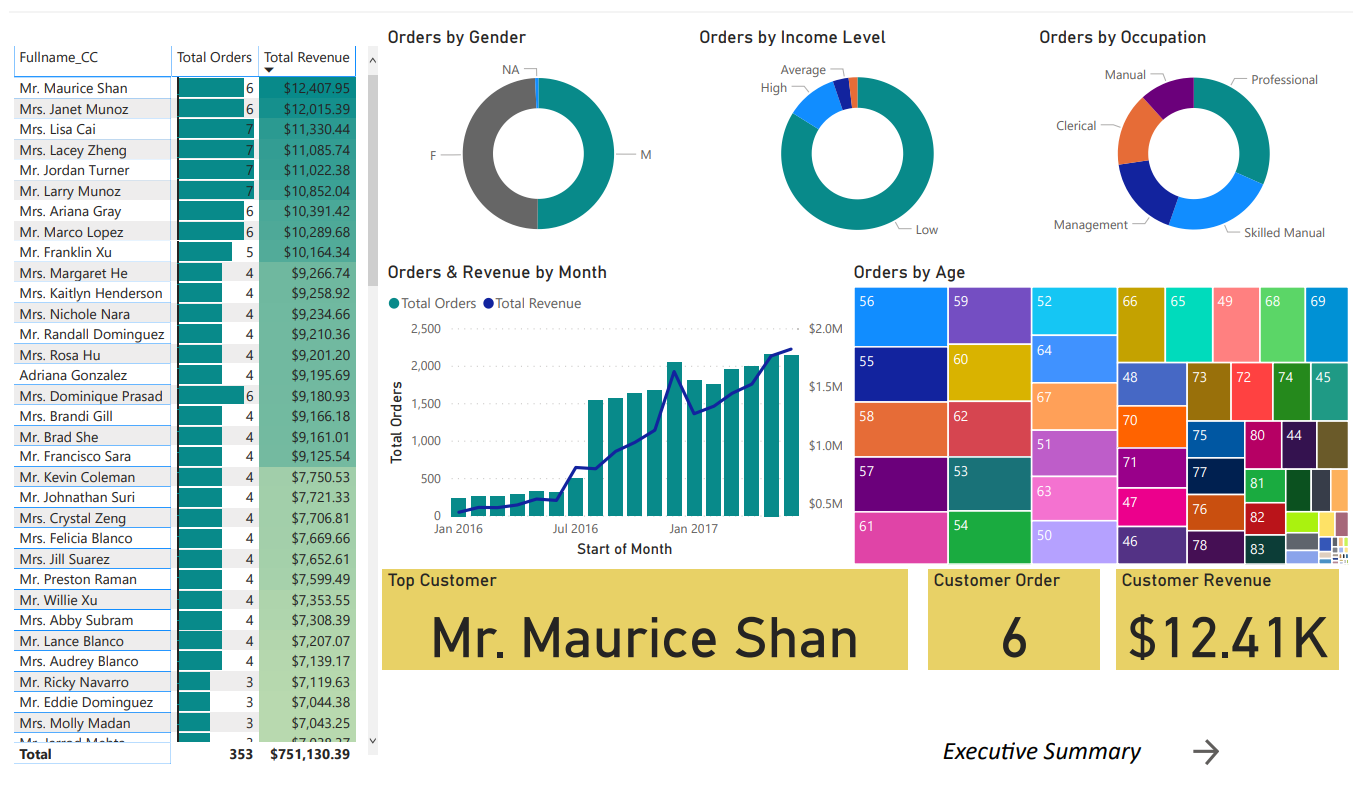

This screenshot's page, from the dashboard's own definition file:
{"tool":"powerbi","page":{"name":"Customer detail","canvas":[1280,720],"ordinal":2},"visuals":[{"type":"pivotTable","fields":{"Values":["AW_Sales.Total Orders","AW_Sales.Total Revenue"],"Rows":["AW_Customer_Lookup.Fullname_CC"]},"box":[0,14.7,355.7,693],"z":0},{"type":"donutChart","title":"Orders by Gender","fields":{"Y":["AW_Sales.Total Orders"],"Category":["AW_Customer_Lookup.Gender"]},"box":[355.7,0,296.8,224.5],"z":1000},{"type":"donutChart","title":"Orders by Income Level","fields":{"Y":["AW_Sales.Total Orders"],"Category":["AW_Customer_Lookup.IncomeLevel"]},"box":[652.8,0,311.1,224.2],"z":2000},{"type":"donutChart","title":"Orders by Occupation","fields":{"Y":["AW_Sales.Total Orders"],"Category":["AW_Customer_Lookup.Occupation"]},"box":[976.4,0,304,224.2],"z":3000},{"type":"lineStackedColumnComboChart","title":"Orders & Revenue by Month","fields":{"Category":["AW_Calendar_Lookup.Start of Month"],"Y":["AW_Sales.Total Orders"],"Y2":["AW_Sales.Total Revenue"]},"box":[356,224.2,443.8,286.9],"z":4000},{"type":"treemap","title":"Orders by Age","fields":{"Values":["AW_Sales.Total Orders"],"Group":["AW_Customer_Lookup.Current Age"]},"box":[799.7,224.5,480.8,293.2],"z":5000},{"type":"card","title":"Top Customer","fields":{"Values":["AW_Customer_Lookup.Fullname_CC"]},"box":[355.7,517.8,499.9,96.1],"z":6000},{"type":"card","title":"Customer Order","fields":{"Values":["AW_Sales.Total Orders"]},"box":[876.2,517.8,163.4,96.1],"z":7000},{"type":"card","title":"Customer Revenue","fields":{"Values":["AW_Sales.Total Revenue"]},"box":[1054.8,517.8,211.5,96.1],"z":8000},{"type":"textbox","box":[884.5,670.2,310.4,43.9],"z":9000},{"type":"actionButton","box":[1122.1,674.3,83.8,34.3],"z":10000}]}

Visuals, with their boxes on the page's 1280x720 design canvas (x1, y1, x2, y2). These are canvas units, not pixel positions in the 1360x804 screenshot, which may show the page scaled, cropped or inside an application window:
pivotTable - AW_Sales.Total Orders x AW_Sales.Total Revenue: bbox=[0, 15, 356, 708]
"Orders by Gender" donutChart: bbox=[356, 0, 652, 224]
"Orders by Income Level" donutChart: bbox=[653, 0, 964, 224]
"Orders by Occupation" donutChart: bbox=[976, 0, 1280, 224]
"Orders & Revenue by Month" lineStackedColumnComboChart: bbox=[356, 224, 800, 511]
"Orders by Age" treemap: bbox=[800, 224, 1280, 518]
"Top Customer" card: bbox=[356, 518, 856, 614]
"Customer Order" card: bbox=[876, 518, 1040, 614]
"Customer Revenue" card: bbox=[1055, 518, 1266, 614]
textbox: bbox=[884, 670, 1195, 714]
actionButton: bbox=[1122, 674, 1206, 709]
